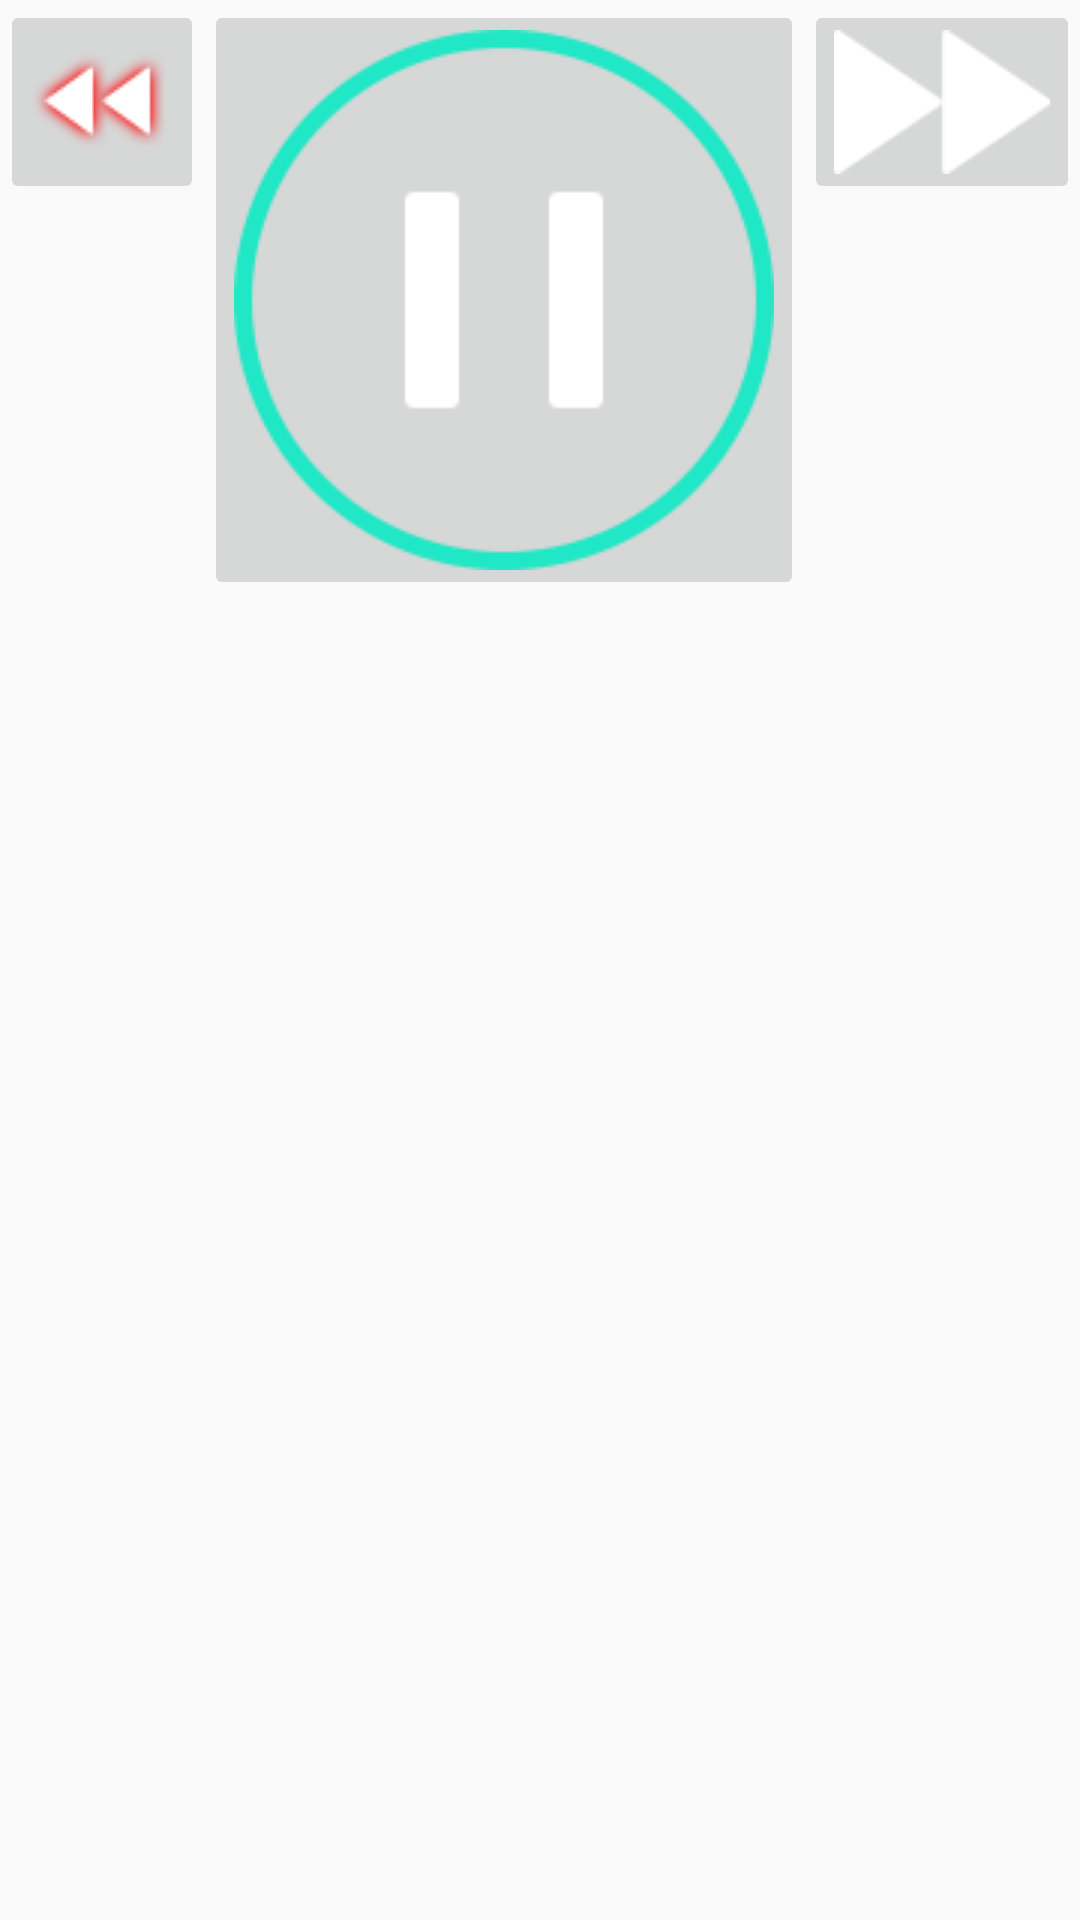

Where icons sit on this 1080 x 1920 app screen, as (x1, y1, x2, y2):
previous: (12, 18, 192, 186)
